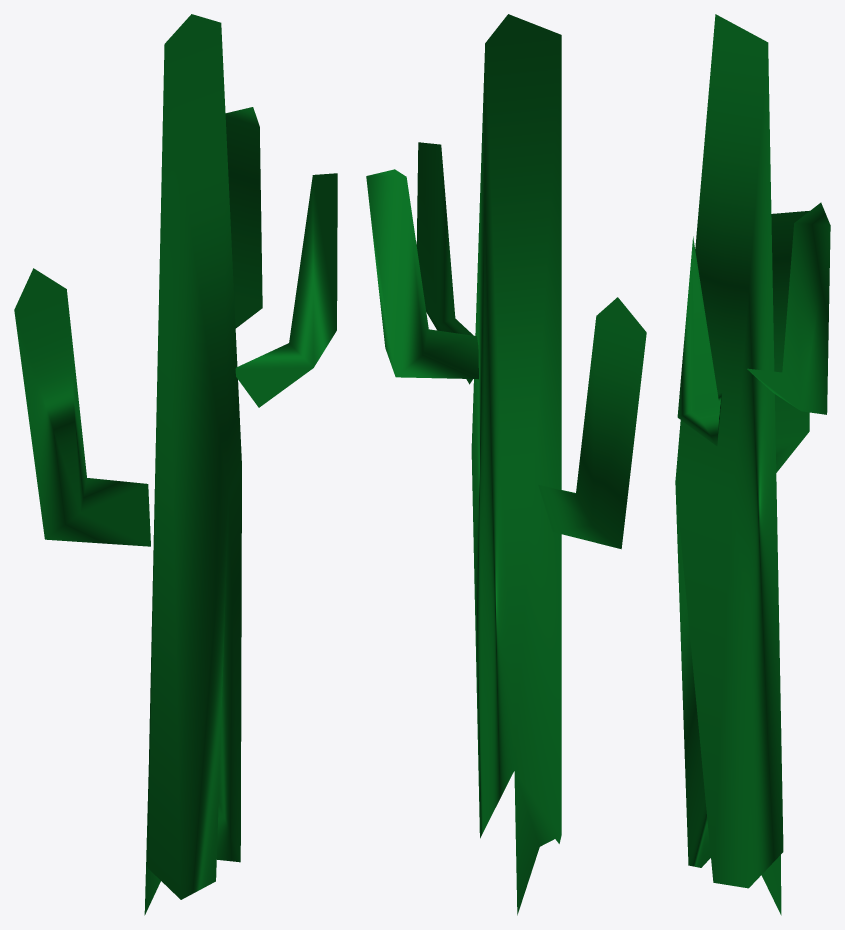
File: SeguaroCactusLarge3_LOD3.obj
The picture shows the model from 3 angles, left to right: view 1: azimuth 30°, elevation 25°; view 2: azimuth 150°, elevation 25°; view 3: azimuth 270°, elevation 25°; orthographic projection. The views are drawn at different scales.
Visible parts, largest first — view 1: SeguaroCactusLarge3_LOD3; view 2: SeguaroCactusLarge3_LOD3; view 3: SeguaroCactusLarge3_LOD3.
Part boxes in pixels (x1,y1,x2,y2): SeguaroCactusLarge3_LOD3: (14,14,337,915); SeguaroCactusLarge3_LOD3: (366,14,646,915); SeguaroCactusLarge3_LOD3: (675,14,830,915).
Size of the model in its own units: 203 by 624 by 97.25.
